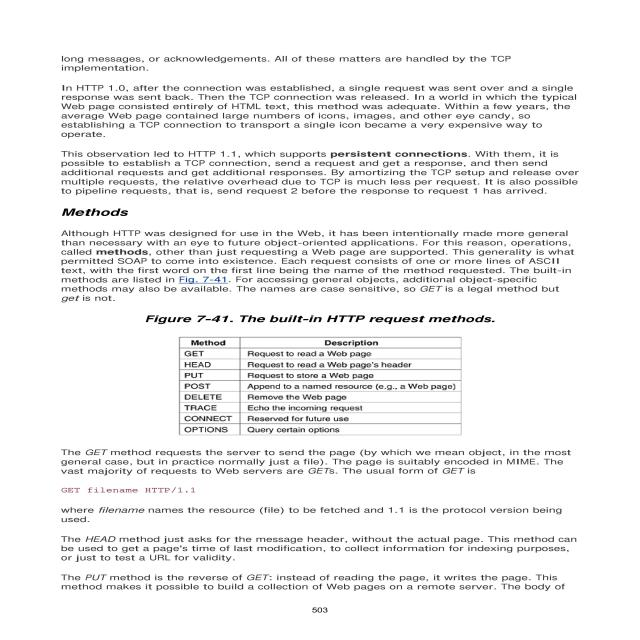diagram: (96, 303, 549, 445)
